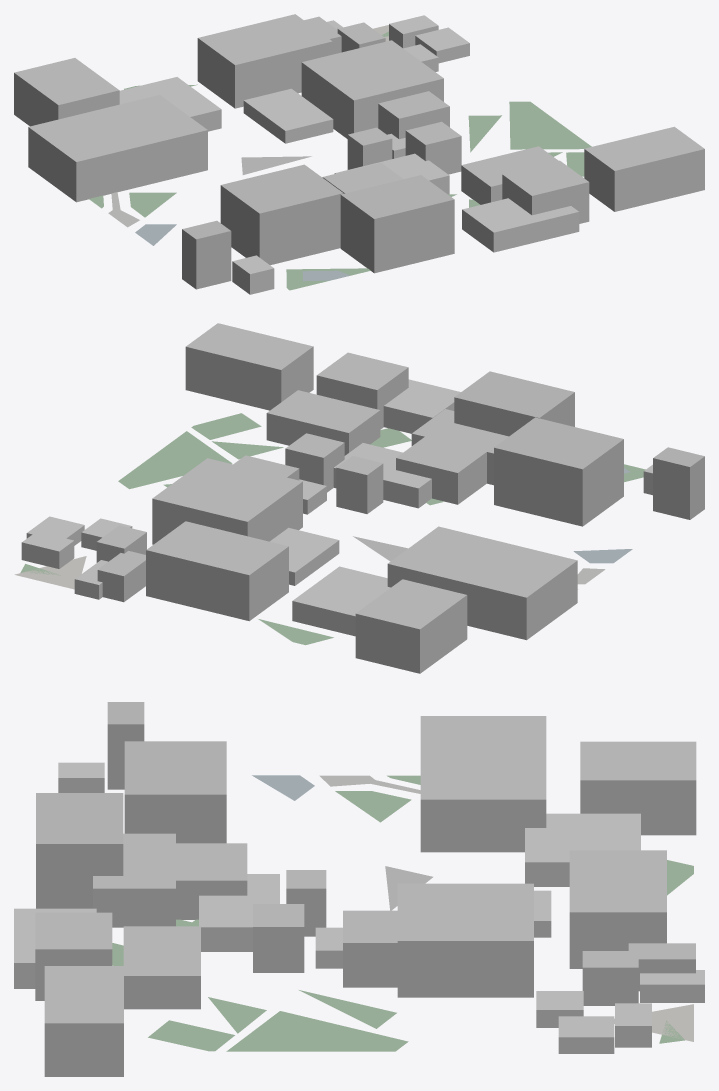
The model's file is 122_95_mid.glb.
The picture shows the model from 3 angles, top to bottom: view 1: azimuth 30°, elevation 25°; view 2: azimuth 150°, elevation 25°; view 3: azimuth 270°, elevation 25°; orthographic projection. The views are drawn at different scales.
Bounding box in the file's own units: 561 × 61.84 × 531.
